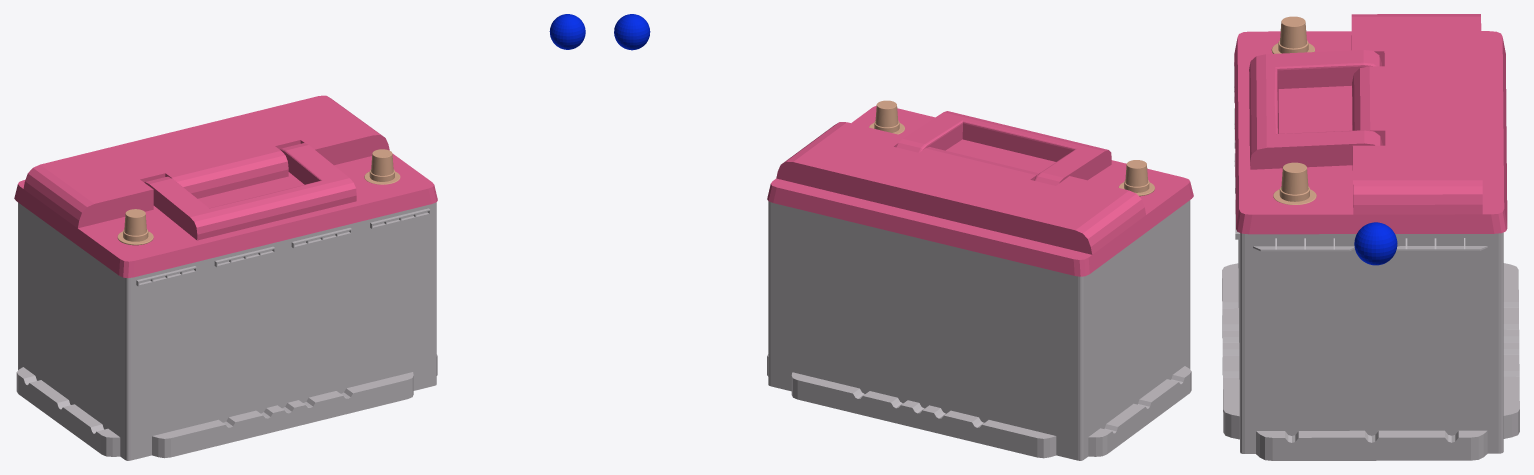
Rendered from highSpeedAgitateAni1.glb.
3 views of the same model, side by side, from view 1: azimuth 30°, elevation 25°; view 2: azimuth 150°, elevation 25°; view 3: azimuth 270°, elevation 25° (orthographic). The views are drawn at different scales.
Parts seen in each view (by area): view 1: batteryBody, batteryTop, Sphere, negativeTerminal, positiveTerminal; view 2: batteryBody, batteryTop, Sphere, negativeTerminal, positiveTerminal; view 3: batteryBody, batteryTop, Sphere, positiveTerminal, negativeTerminal.
Boxes of the visible parts, x1=… form: batteryBody: x1=16, y1=202, x2=437, y2=460; batteryTop: x1=14, y1=95, x2=437, y2=278; Sphere: x1=549, y1=14, x2=585, y2=49; negativeTerminal: x1=117, y1=209, x2=153, y2=245; positiveTerminal: x1=364, y1=149, x2=400, y2=184; batteryBody: x1=767, y1=200, x2=1191, y2=460; batteryTop: x1=767, y1=105, x2=1193, y2=276; Sphere: x1=614, y1=14, x2=650, y2=50; negativeTerminal: x1=1118, y1=160, x2=1154, y2=196; positiveTerminal: x1=869, y1=100, x2=904, y2=134; batteryBody: x1=1222, y1=62, x2=1519, y2=460; batteryTop: x1=1234, y1=14, x2=1507, y2=234; Sphere: x1=1354, y1=222, x2=1397, y2=265; positiveTerminal: x1=1273, y1=162, x2=1316, y2=204; negativeTerminal: x1=1271, y1=16, x2=1314, y2=53.
Size of the model in its own units: 33.75 by 17.32 by 13.79.
